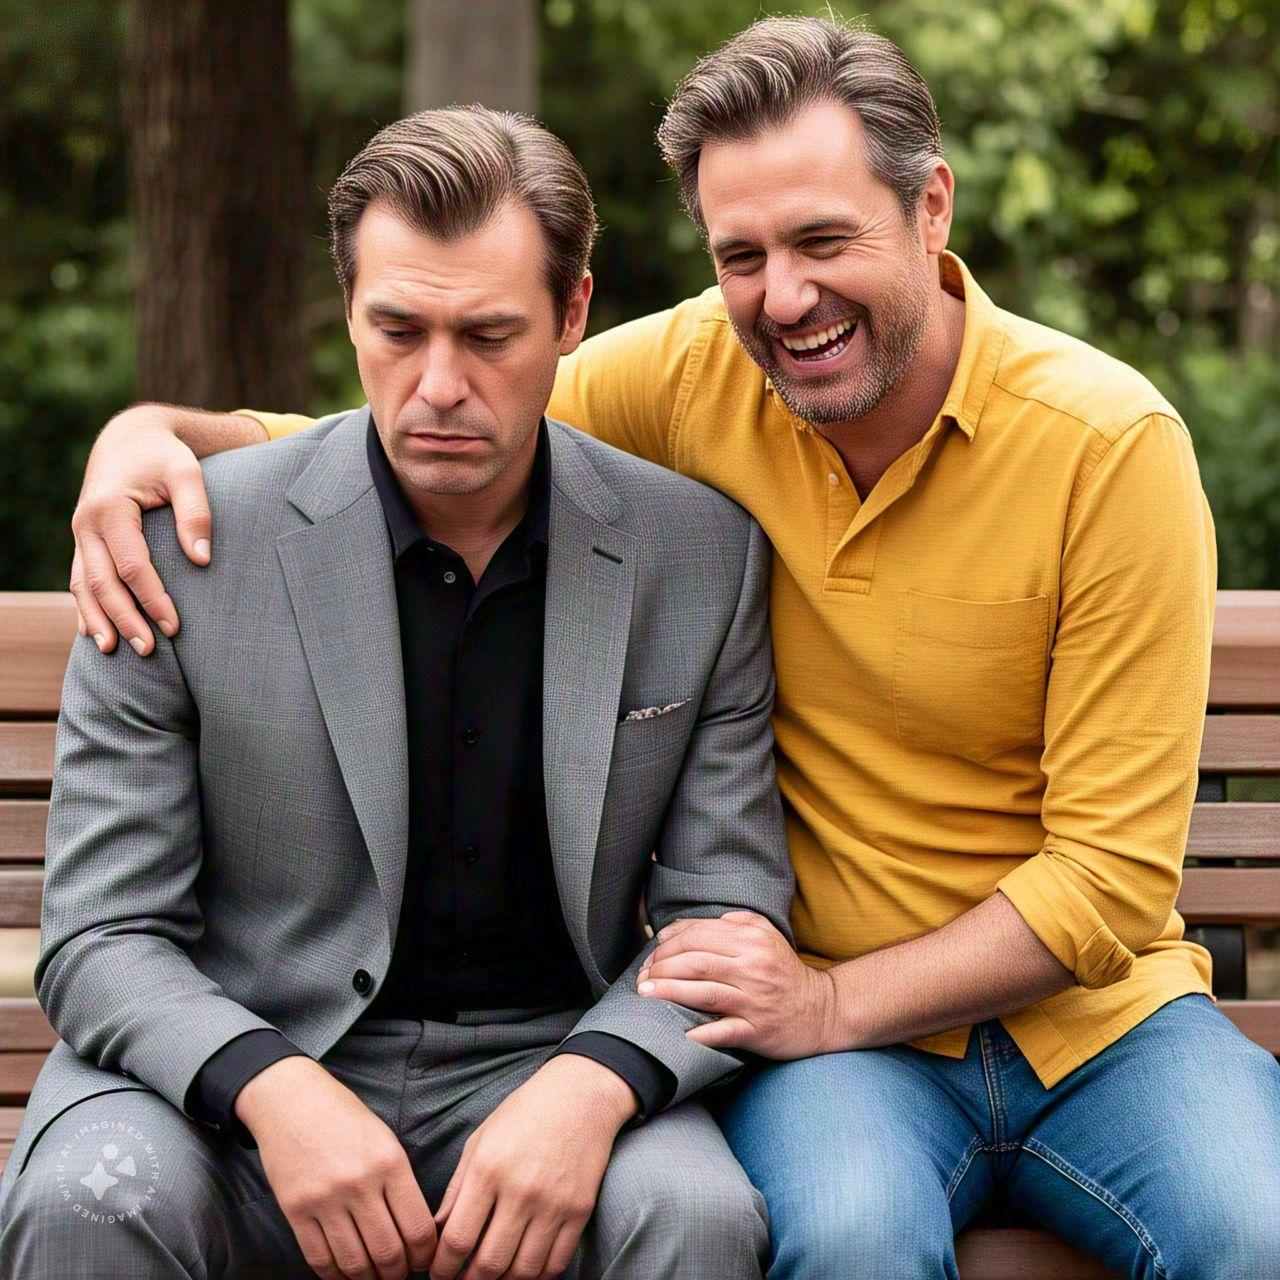feliz: (686, 86, 971, 425)
triste: (342, 170, 574, 502)
